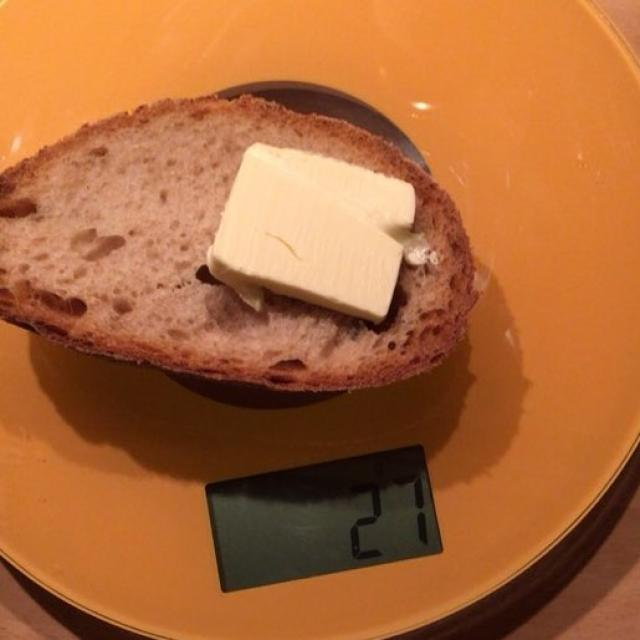bread: (34, 100, 463, 380)
butter: (203, 140, 424, 329)
